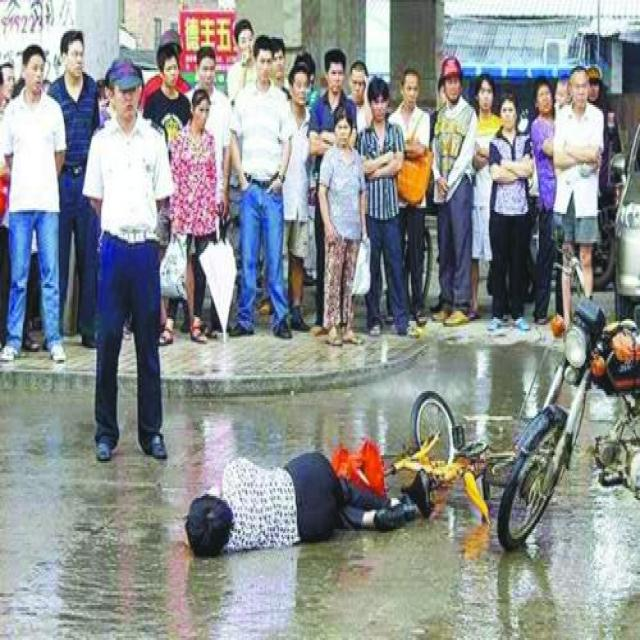10-: (5, 12, 638, 459)
down: (178, 434, 426, 564)
